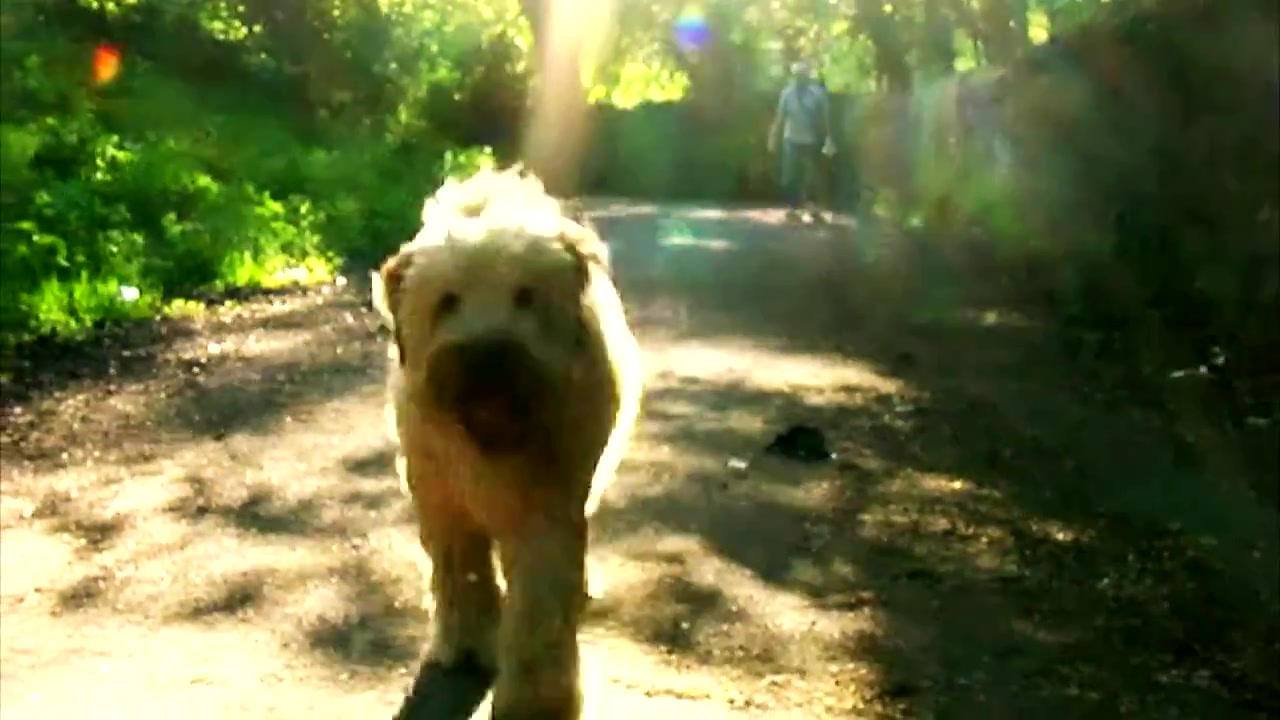dog: (370, 173, 640, 720)
